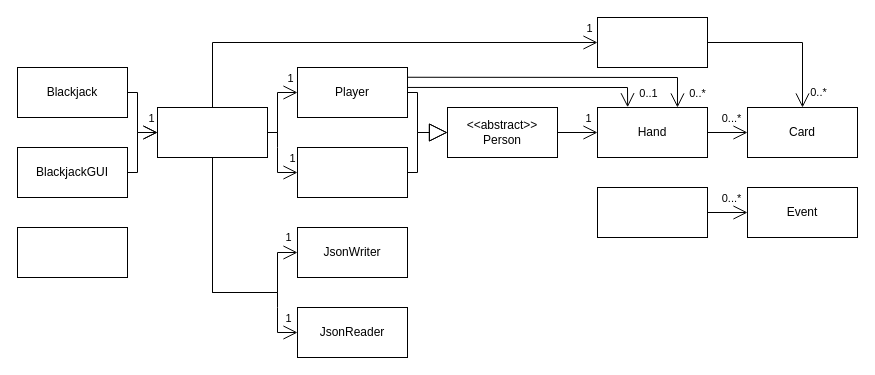
The diagram is 875 pixels wide and 375 high, and some of its shapes have lost their labels. Each missing label, with the centre of its shape:
"Dealer" belongs at (352,172).
"Deck" belongs at (652,42).
"EventLog" belongs at (652,212).
"Game" belongs at (212,132).
"Main" belongs at (72,252).
